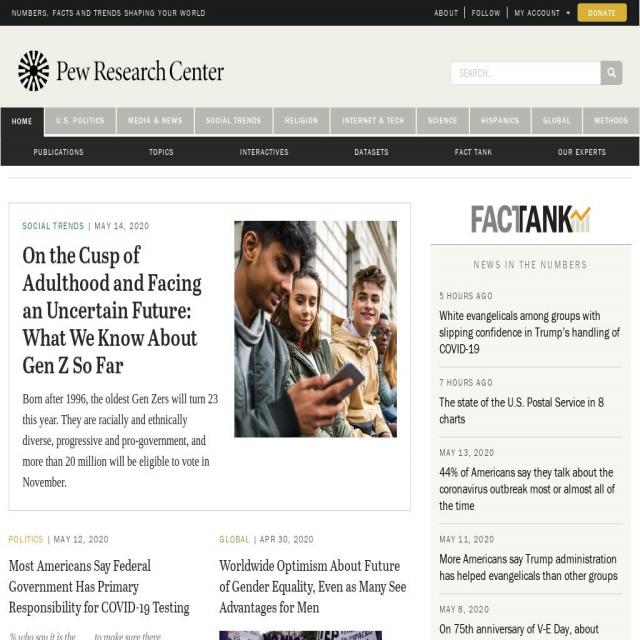follow-options: (469, 1, 505, 26)
login-option: (510, 4, 574, 28)
navigation-blocks: (2, 200, 640, 640)
navigation-links: (6, 112, 640, 170)
search: (453, 60, 628, 93)
sign-up-option: (514, 4, 575, 28)
